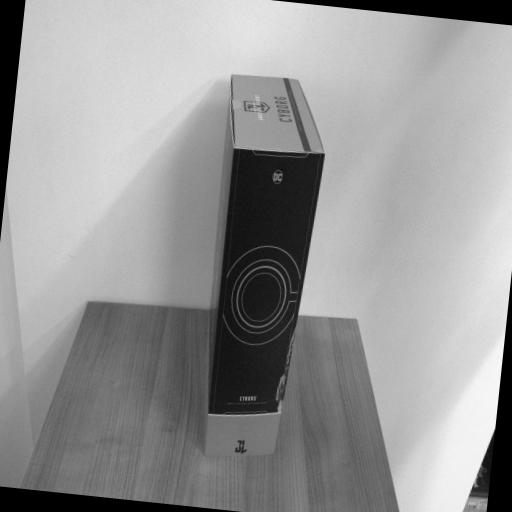Cyborg: (190, 70, 332, 465)
